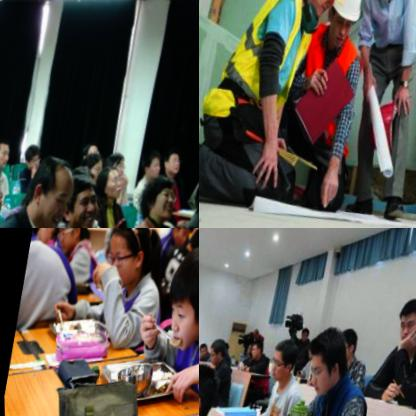head: (154, 247, 199, 363), (17, 150, 80, 228), (302, 326, 352, 401), (97, 228, 155, 292), (58, 171, 102, 228), (135, 175, 182, 228), (265, 337, 299, 387), (390, 298, 416, 352), (92, 165, 124, 208), (97, 147, 129, 188), (199, 360, 222, 416), (136, 151, 164, 191), (50, 228, 89, 256), (157, 146, 185, 184), (333, 328, 360, 367), (18, 145, 46, 181), (78, 153, 105, 190), (204, 335, 226, 370), (78, 141, 101, 172), (186, 172, 199, 226), (30, 228, 63, 249), (0, 131, 14, 175), (168, 228, 196, 250), (246, 337, 262, 364), (187, 228, 199, 256), (247, 324, 262, 343), (241, 338, 253, 357), (297, 326, 309, 345), (199, 338, 209, 359)
helmet: (322, 0, 369, 49), (293, 0, 358, 23)
